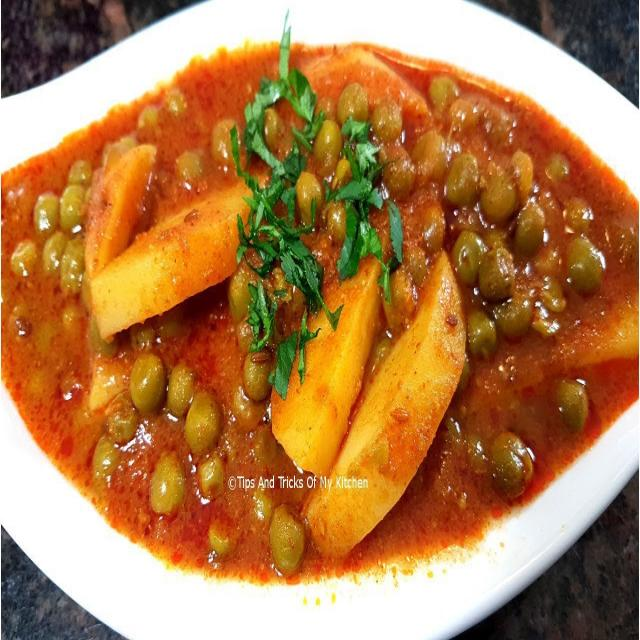Aloo Matar: (4, 58, 640, 578)
